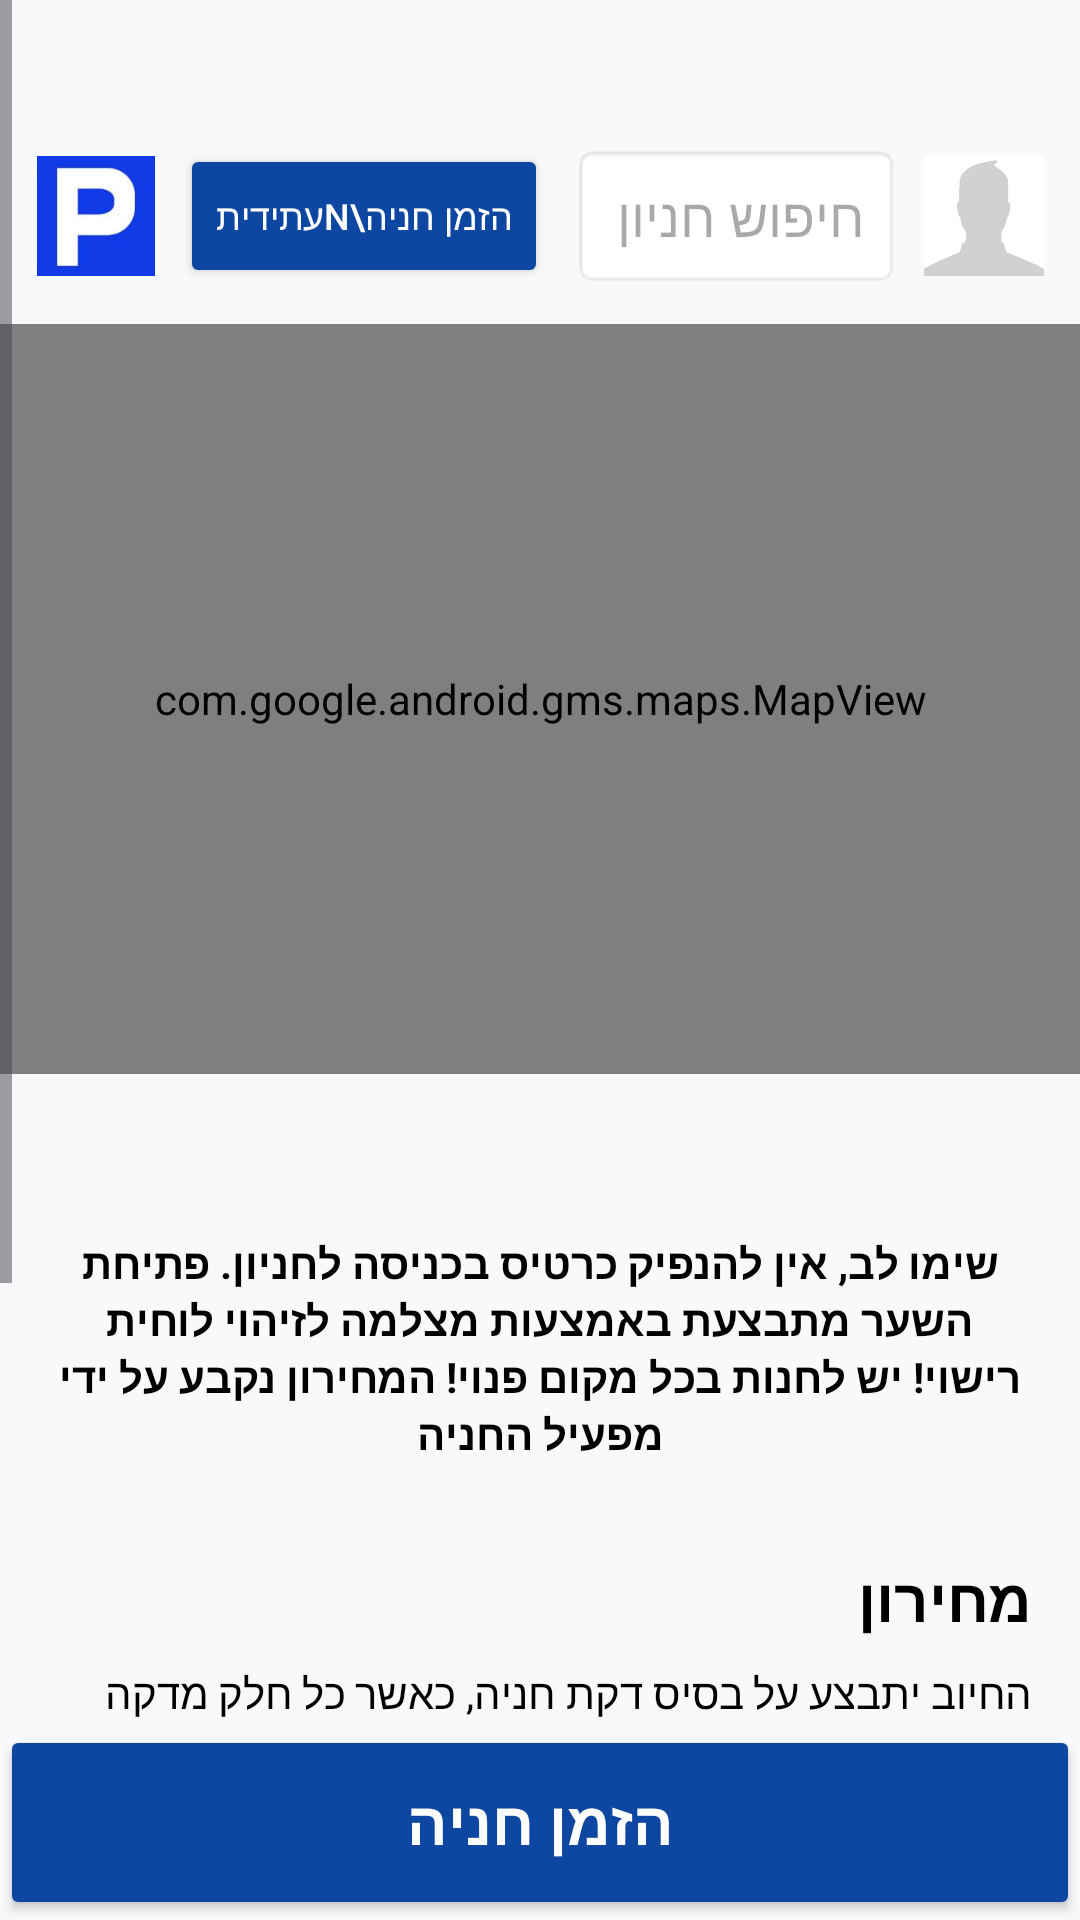

Icon bounding boxes for this 1080 x 1920 phone screenshot, format (x1, y1, x2, y2):
profile: (924, 161, 1044, 276)
